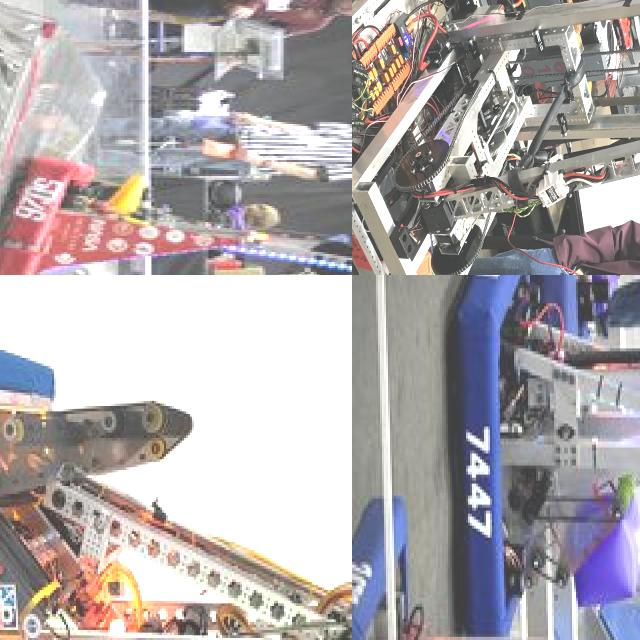FRC-Robots: (0, 291, 352, 640), (352, 0, 640, 275), (430, 275, 640, 640), (0, 151, 352, 275), (352, 558, 640, 640), (511, 275, 640, 356)
